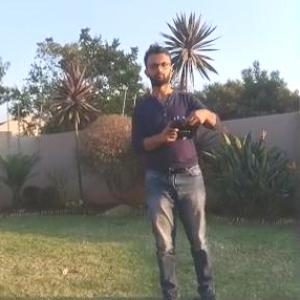follow: (127, 38, 231, 299)
